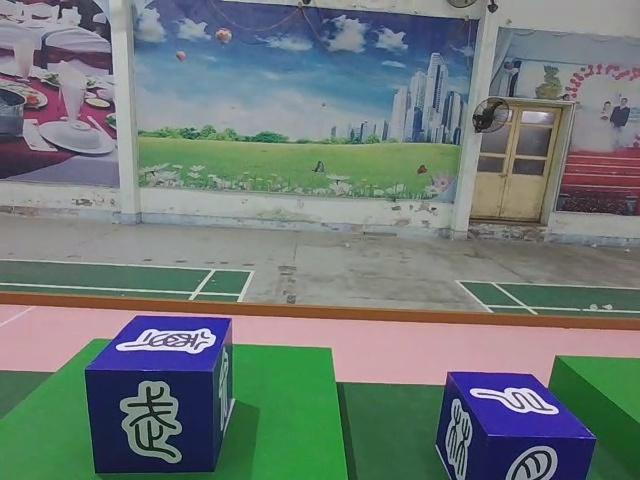R2 Fake Blue: (85, 313, 234, 479), (438, 374, 599, 480)
